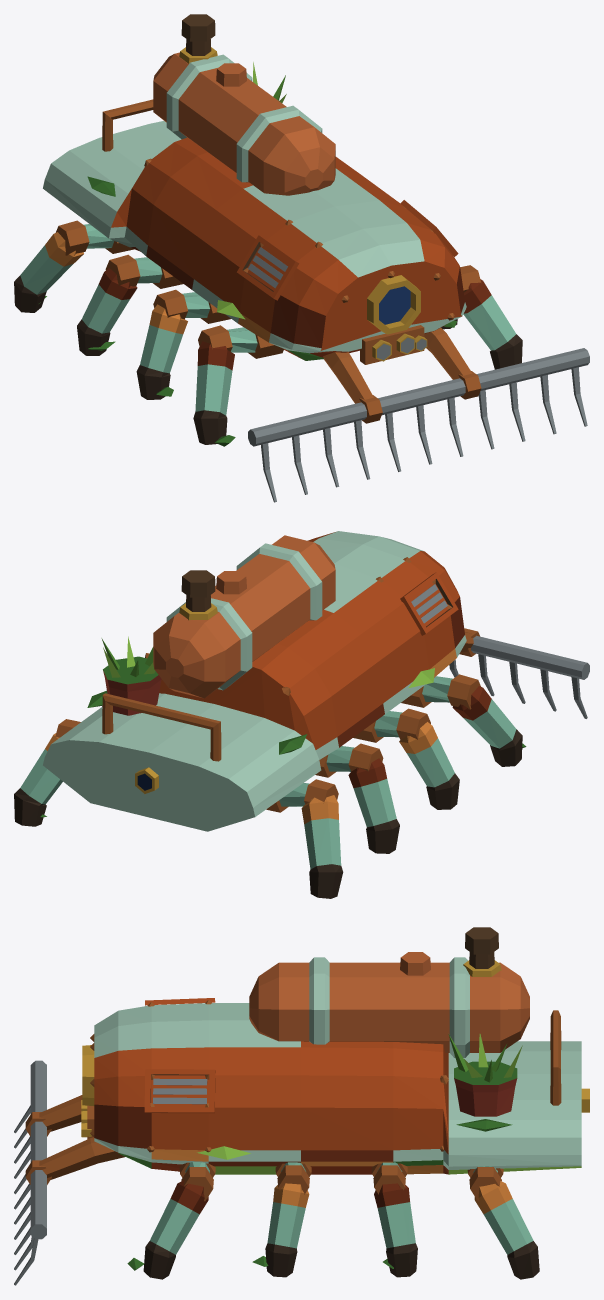
The model's file is multi-legged-tiller-24ca96.glb.
The picture shows the model from 3 angles, top to bottom: view 1: azimuth 30°, elevation 25°; view 2: azimuth 150°, elevation 25°; view 3: azimuth 270°, elevation 25°; orthographic projection.
Visible parts, largest first — view 1: hull, rake-mesh, leg-mesh-l1, leg-mesh-l2, leg-mesh-l3, leg-mesh-l4, leg-mesh-r1; view 2: hull, leg-mesh-l4, leg-mesh-l3, leg-mesh-l1, leg-mesh-l2, rake-mesh, planter-mesh, leg-mesh-r4; view 3: hull, rake-mesh, leg-mesh-r1, leg-mesh-r4, leg-mesh-r2, leg-mesh-r3, planter-mesh.
Part boxes in pixels (x1=…): hull: x1=43, y1=14, x2=466, y2=364; rake-mesh: x1=248, y1=327, x2=589, y2=502; leg-mesh-l1: x1=193, y1=325, x2=283, y2=446; leg-mesh-l2: x1=136, y1=289, x2=230, y2=399; leg-mesh-l3: x1=77, y1=254, x2=183, y2=355; leg-mesh-l4: x1=14, y1=220, x2=134, y2=312; leg-mesh-r1: x1=460, y1=265, x2=522, y2=369; hull: x1=43, y1=531, x2=466, y2=831; leg-mesh-l4: x1=266, y1=779, x2=343, y2=898; leg-mesh-l3: x1=315, y1=743, x2=399, y2=853; leg-mesh-l1: x1=401, y1=674, x2=526, y2=766; leg-mesh-l2: x1=353, y1=708, x2=459, y2=809; rake-mesh: x1=449, y1=628, x2=589, y2=718; planter-mesh: x1=101, y1=636, x2=161, y2=715; leg-mesh-r4: x1=14, y1=719, x2=80, y2=826; hull: x1=81, y1=927, x2=589, y2=1174; rake-mesh: x1=14, y1=1060, x2=125, y2=1285; leg-mesh-r1: x1=127, y1=1162, x2=215, y2=1279; leg-mesh-r4: x1=467, y1=1166, x2=539, y2=1279; leg-mesh-r2: x1=252, y1=1162, x2=311, y2=1277; leg-mesh-r3: x1=371, y1=1162, x2=417, y2=1277; planter-mesh: x1=448, y1=1034, x2=522, y2=1116.
Size of the model in its own units: 2.1 by 1.65 by 3.12.
